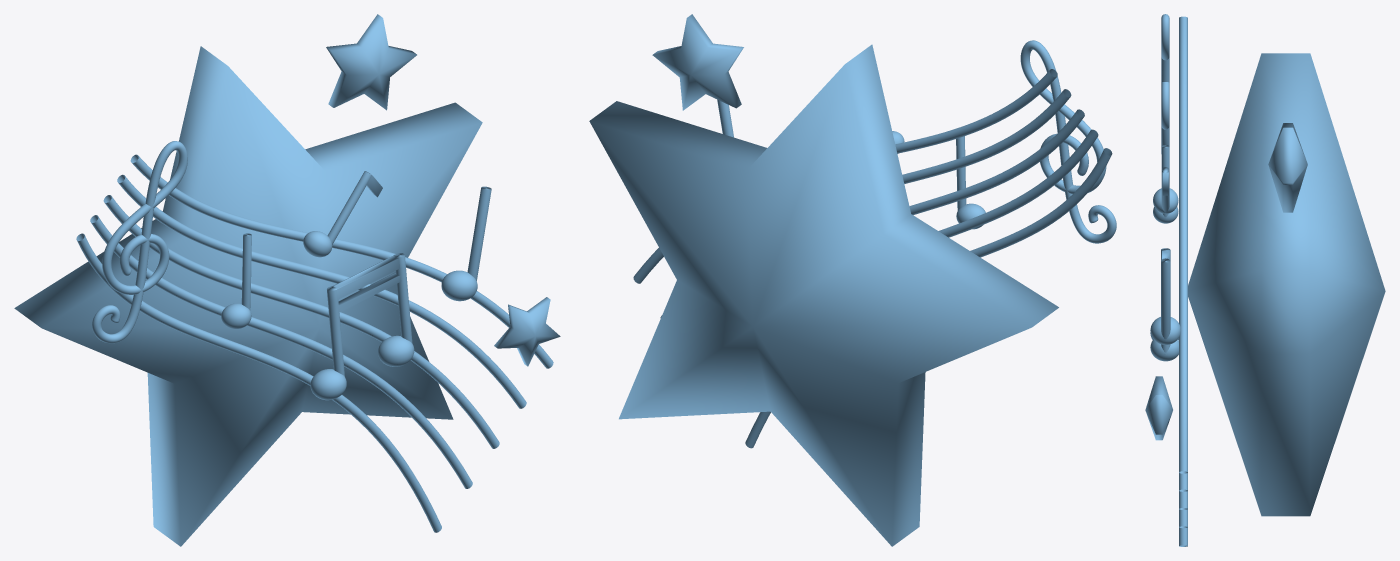
File: star.gltf
The picture shows the model from 3 angles, left to right: view 1: azimuth 30°, elevation 25°; view 2: azimuth 150°, elevation 25°; view 3: azimuth 270°, elevation 25°; orthographic projection. The views are drawn at different scales.
Parts seen in each view (by area): view 1: star1, manuscript4, clef, note1, star2, star3, note2, note3, note4; view 2: star1, manuscript4, star2, clef, note4; view 3: star1, manuscript4, star2, note2, clef, star3, note3, note1, note4.
Boxes of the visible parts, x1,y1,x2,y2 form: star1: (14, 46, 482, 546); manuscript4: (76, 154, 553, 532); clef: (92, 141, 187, 343); note1: (310, 253, 414, 400); star2: (326, 14, 416, 110); star3: (494, 297, 560, 366); note2: (441, 186, 491, 301); note3: (303, 171, 382, 257); note4: (221, 233, 251, 328); star1: (589, 44, 1058, 546); manuscript4: (633, 69, 1112, 448); star2: (652, 14, 743, 110); clef: (1020, 40, 1116, 243); note4: (956, 136, 985, 229); star1: (1188, 53, 1385, 516); manuscript4: (1179, 16, 1187, 546); star2: (1268, 123, 1307, 212); note2: (1150, 258, 1180, 344); clef: (1161, 14, 1169, 153); star3: (1145, 376, 1172, 440); note3: (1153, 167, 1178, 213); note1: (1150, 248, 1178, 361); note4: (1153, 145, 1178, 223).
Size of the model in its own units: 1.93 by 1.83 by 0.9439.
